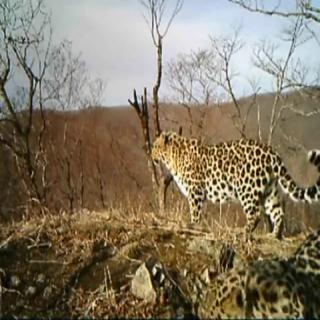Leopard: (146, 104, 320, 245)
